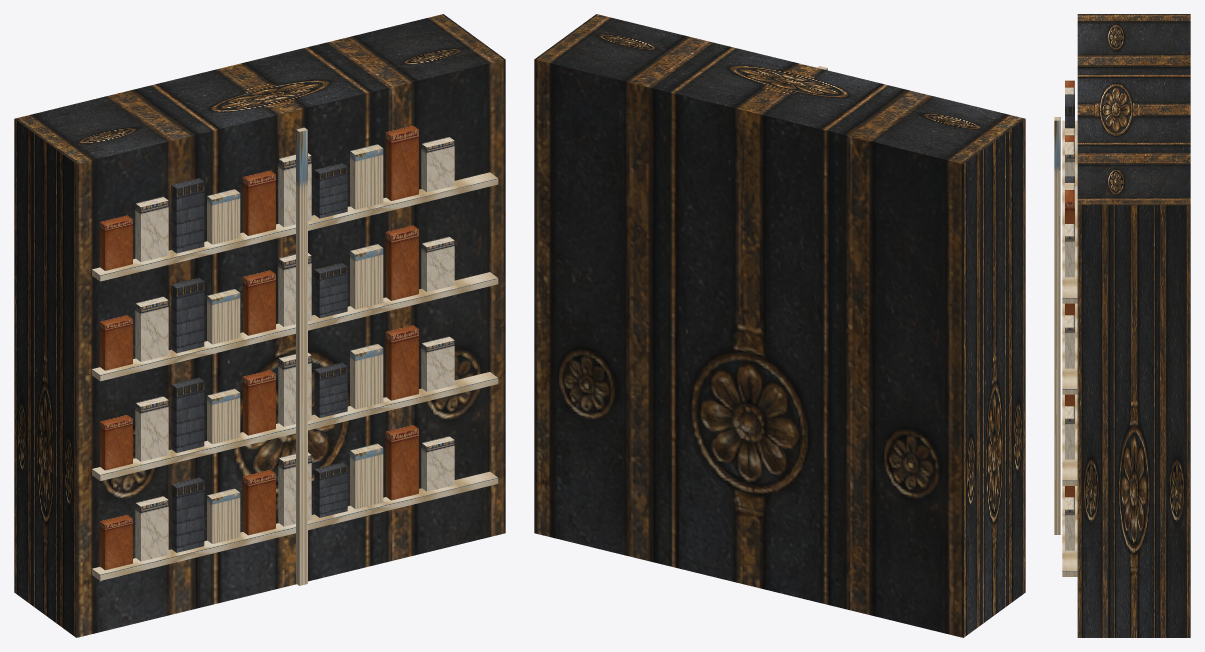
Rendered from bookcase.gltf.
3 views of the same model, side by side, from view 1: azimuth 30°, elevation 25°; view 2: azimuth 150°, elevation 25°; view 3: azimuth 270°, elevation 25° (orthographic). The views are drawn at different scales.
Parts seen in each view (by area): view 1: kit:0:furniture:mahogany:, kit:0:furniture:gold:, kit:0:furniture:red:, kit:0:furniture:blue:, kit:0:furniture:green:; view 2: kit:0:furniture:mahogany:; view 3: kit:0:furniture:mahogany:, kit:0:furniture:gold:, kit:0:furniture:blue:, kit:0:furniture:red:, kit:0:furniture:green:.
Part boxes in pixels (<box>): kit:0:furniture:mahogany:: <box>14,14,505,637</box>; kit:0:furniture:gold:: <box>92,127,498,585</box>; kit:0:furniture:red:: <box>99,125,418,570</box>; kit:0:furniture:blue:: <box>135,137,454,561</box>; kit:0:furniture:green:: <box>171,163,347,552</box>; kit:0:furniture:mahogany:: <box>534,14,1025,637</box>; kit:0:furniture:mahogany:: <box>1077,14,1190,637</box>; kit:0:furniture:gold:: <box>1054,117,1077,576</box>; kit:0:furniture:blue:: <box>1065,87,1074,550</box>; kit:0:furniture:red:: <box>1065,80,1074,497</box>; kit:0:furniture:green:: <box>1065,94,1074,182</box>.
Bounding box in the file's own units: 1.8 × 1.9 × 0.5425.
Materials: 5 (5 with a texture image).
